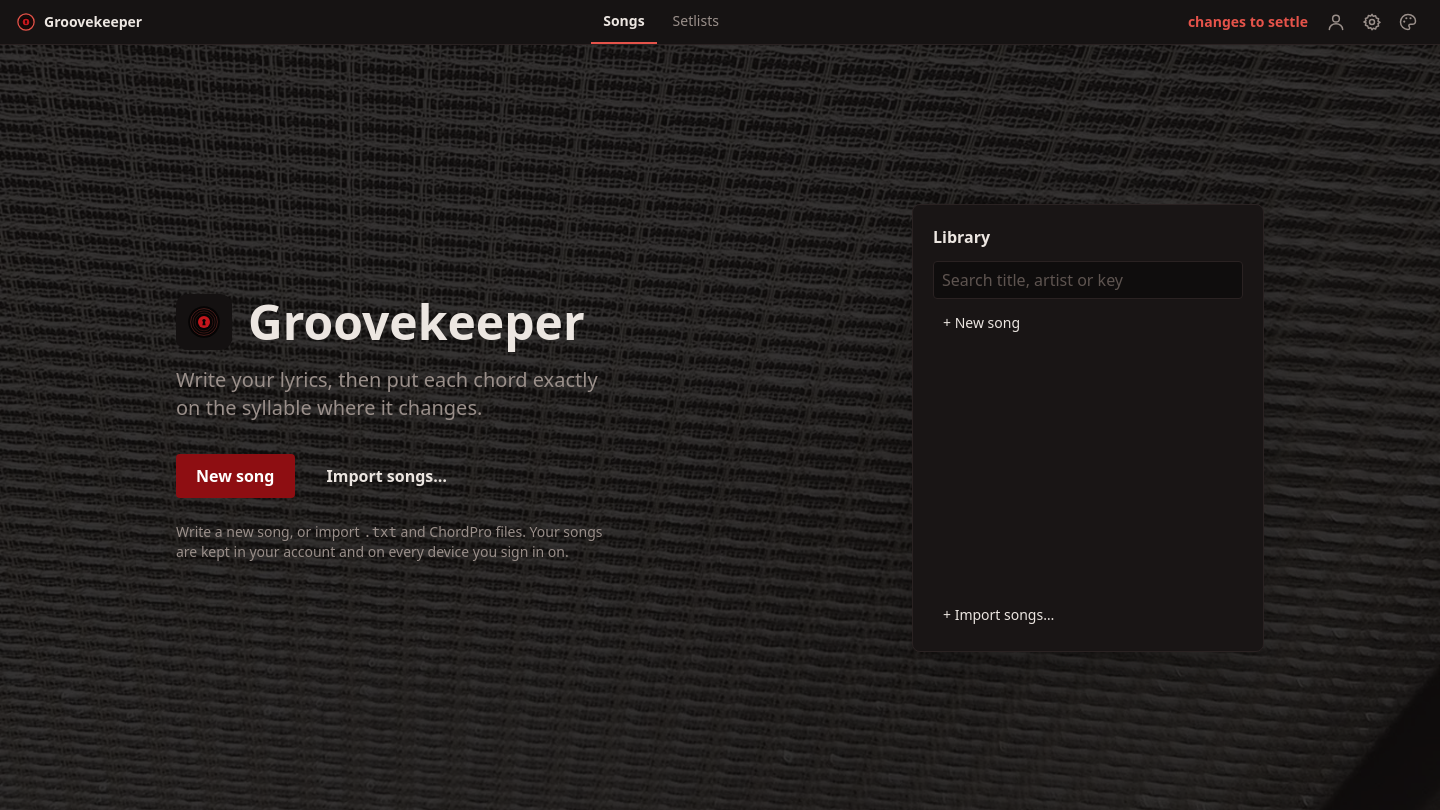
it: the account menu › closes with Esc and gives the keyboard back to its button
Click the button named "Account: me@example.com". click: point(1336, 22)
box: [1320,6,1352,38]
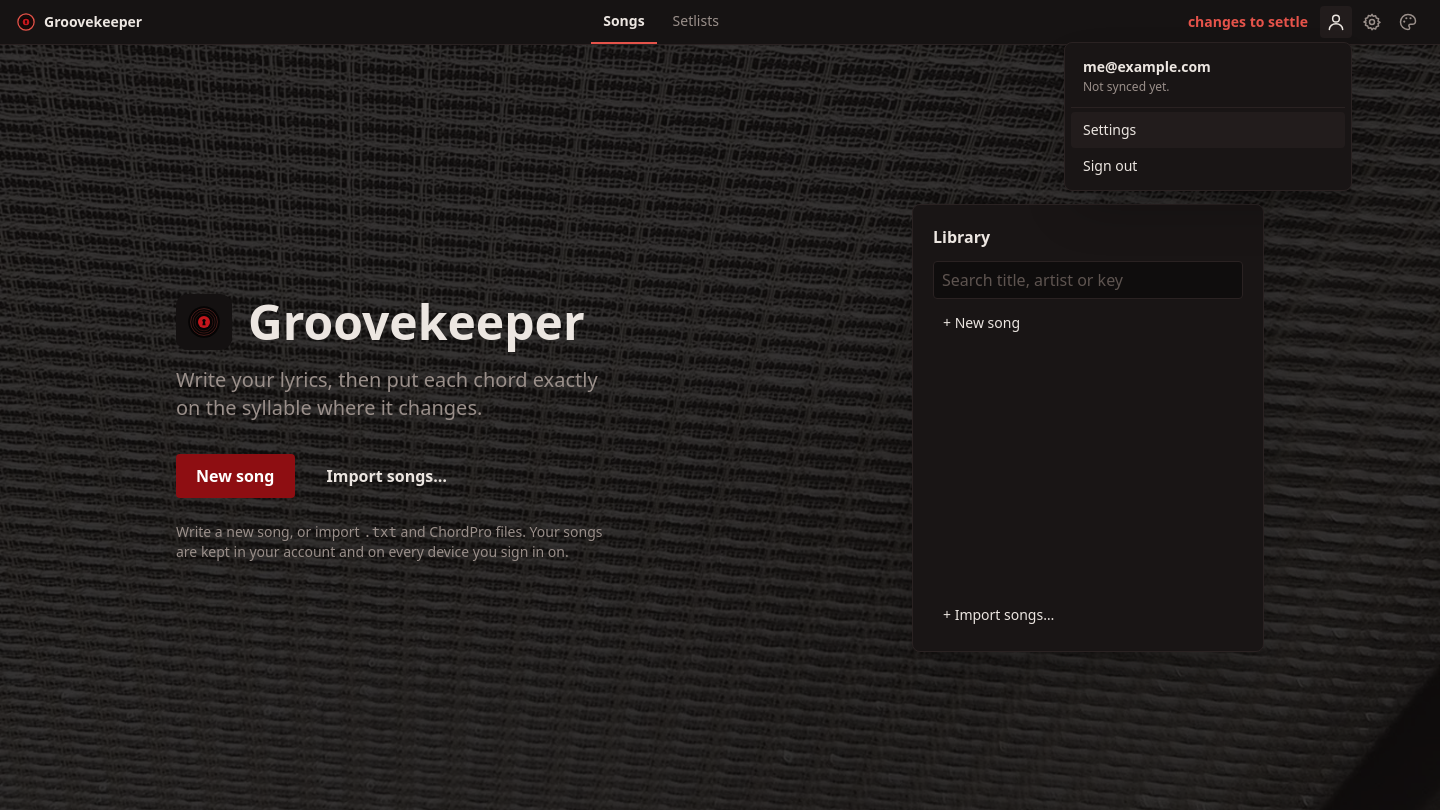
Press Escape
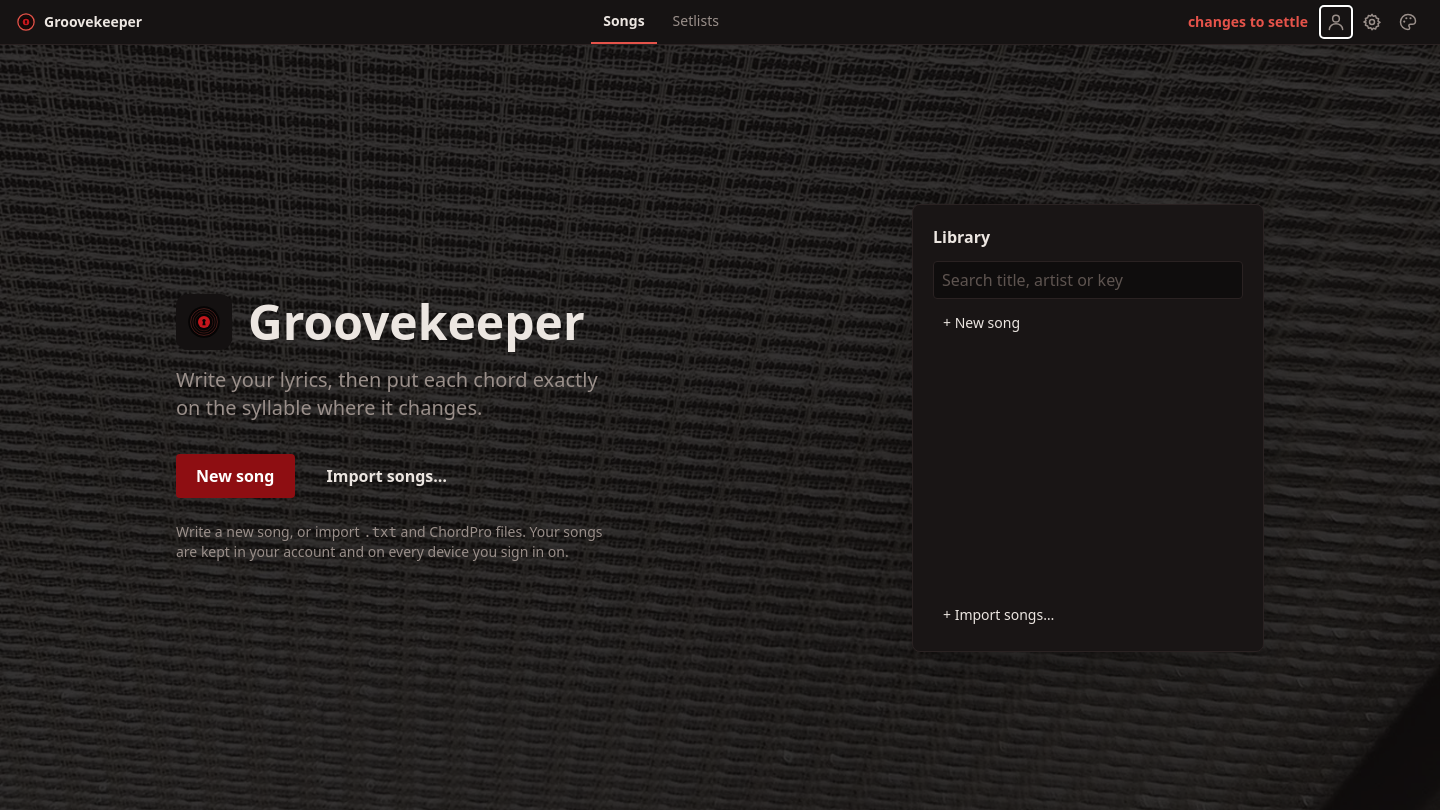
Check: the menu is gone
